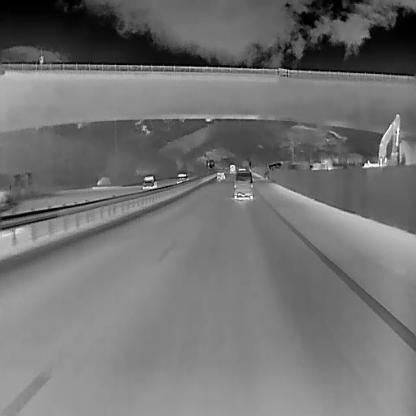car: (233, 168, 254, 200), (140, 174, 156, 189), (175, 170, 188, 182), (215, 168, 225, 180)
truck: (228, 163, 235, 173)
